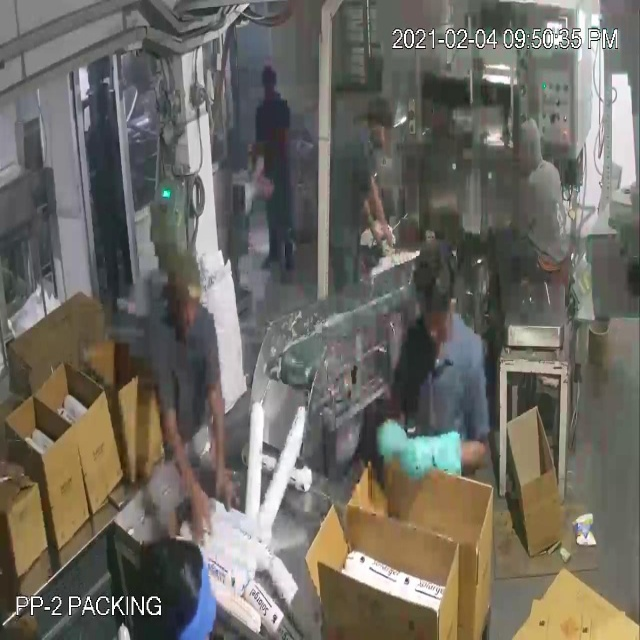Guantes: (400, 415, 464, 492)
Sin_guantes: (151, 391, 215, 547), (203, 359, 240, 519), (361, 163, 406, 258)
